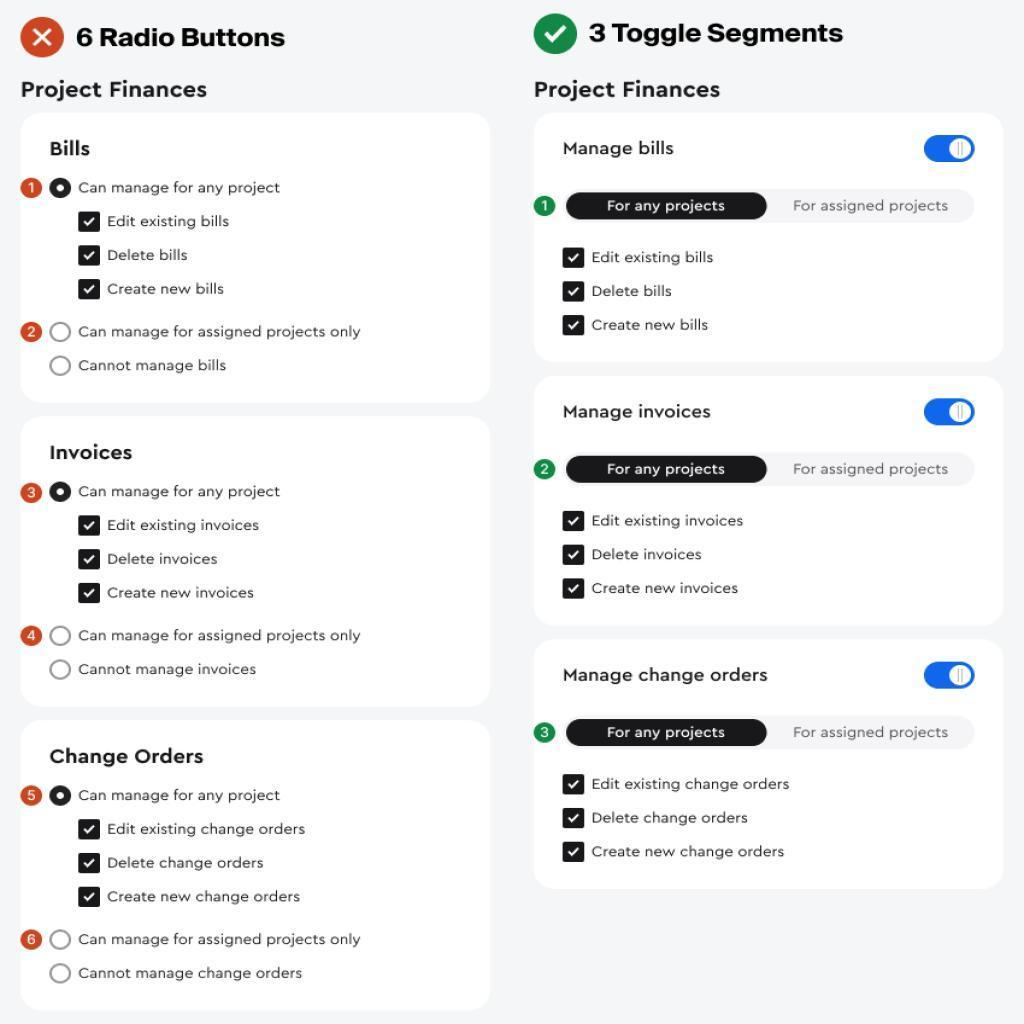button: (566, 718, 768, 750), (567, 191, 769, 223), (568, 455, 768, 486)
checkbox: (78, 515, 102, 538), (564, 842, 586, 864), (79, 280, 102, 301), (563, 249, 586, 270), (563, 775, 586, 796), (79, 213, 101, 234), (79, 550, 101, 571), (564, 512, 586, 533), (79, 584, 102, 604), (79, 854, 102, 874), (79, 888, 102, 908), (563, 316, 586, 336), (79, 246, 101, 266), (79, 820, 101, 840), (563, 809, 585, 829), (564, 282, 585, 302), (564, 545, 584, 566), (564, 580, 585, 599)
label: (77, 324, 364, 343), (77, 628, 362, 647), (79, 932, 362, 950), (562, 664, 773, 687), (78, 965, 306, 983), (591, 775, 794, 794), (78, 484, 281, 503), (78, 788, 284, 806), (107, 820, 309, 838), (559, 402, 714, 425), (107, 888, 303, 906), (791, 722, 953, 743), (78, 662, 259, 680), (77, 182, 284, 197), (106, 584, 258, 604), (792, 460, 952, 479), (105, 517, 264, 536), (592, 514, 748, 533), (77, 358, 231, 377), (593, 846, 788, 861), (108, 855, 267, 873), (594, 810, 752, 828), (790, 199, 952, 216), (590, 581, 742, 598), (106, 280, 229, 301), (593, 315, 709, 335), (107, 214, 233, 231), (108, 551, 223, 569), (591, 250, 718, 266), (561, 141, 680, 157), (590, 547, 706, 563), (107, 247, 191, 264), (592, 285, 673, 299)
radio: (48, 481, 74, 504), (49, 625, 73, 649), (49, 963, 74, 986), (50, 659, 74, 682), (49, 929, 73, 952), (50, 178, 73, 201), (50, 786, 74, 808), (50, 321, 72, 344), (50, 356, 73, 376)
switch: (924, 136, 976, 164), (925, 399, 977, 426), (925, 663, 976, 690)
